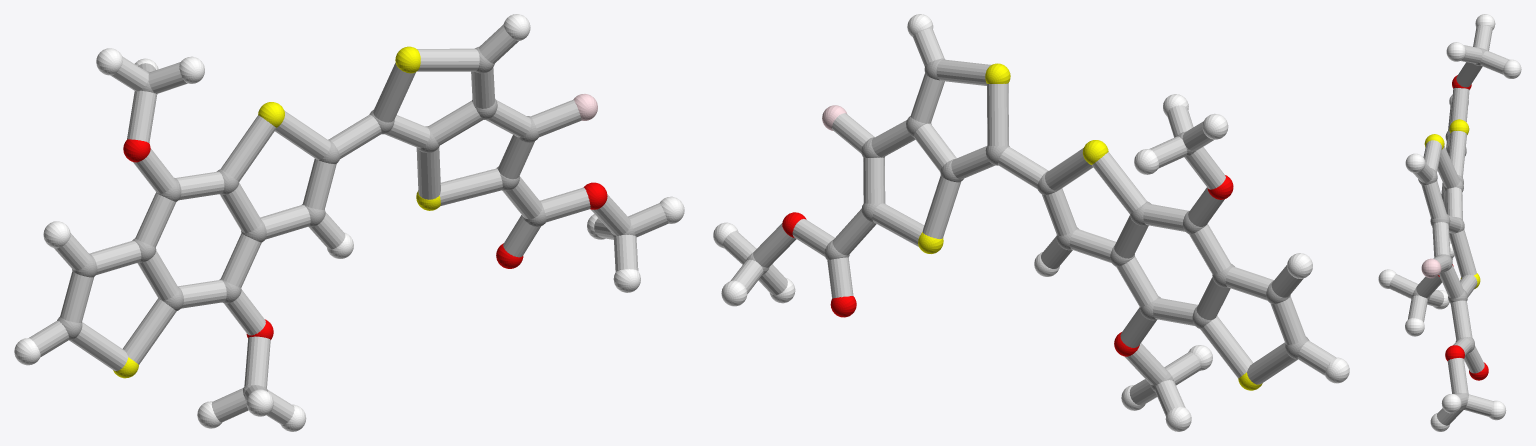
File: Dimethoxy_Benzodithiophene_Phi_15_Theta_200_Methylcarbonyl_3_Fluoro_Thienothiophene.glb
The picture shows the model from 3 angles, left to right: view 1: azimuth 30°, elevation 25°; view 2: azimuth 150°, elevation 25°; view 3: azimuth 270°, elevation 25°; orthographic projection. The views are drawn at different scales.
Parts seen in each view (by area): view 1: grp15205, grp8689, grp1, grp7241, grp13395; view 2: grp15205, grp8689, grp1, grp7241, grp13395; view 3: grp15205, grp8689, grp1, grp13395, grp7241, grp14843.
Boxes of the visible parts, bbox=[...] form: grp15205: bbox=[29, 24, 668, 424]; grp8689: bbox=[14, 14, 684, 431]; grp1: bbox=[57, 47, 635, 395]; grp7241: bbox=[113, 46, 440, 378]; grp13395: bbox=[123, 139, 607, 339]; grp15205: bbox=[722, 28, 1335, 415]; grp8689: bbox=[713, 14, 1349, 431]; grp1: bbox=[746, 58, 1309, 391]; grp7241: bbox=[918, 63, 1262, 390]; grp13395: bbox=[782, 175, 1233, 356]; grp15205: bbox=[1389, 25, 1508, 425]; grp8689: bbox=[1378, 14, 1521, 431]; grp1: bbox=[1412, 48, 1486, 410]; grp13395: bbox=[1438, 75, 1488, 380]; grp7241: bbox=[1424, 119, 1480, 288]; grp14843: bbox=[1421, 258, 1441, 278].
Size of the model in its own units: 16.85 by 9.14 by 4.33.
